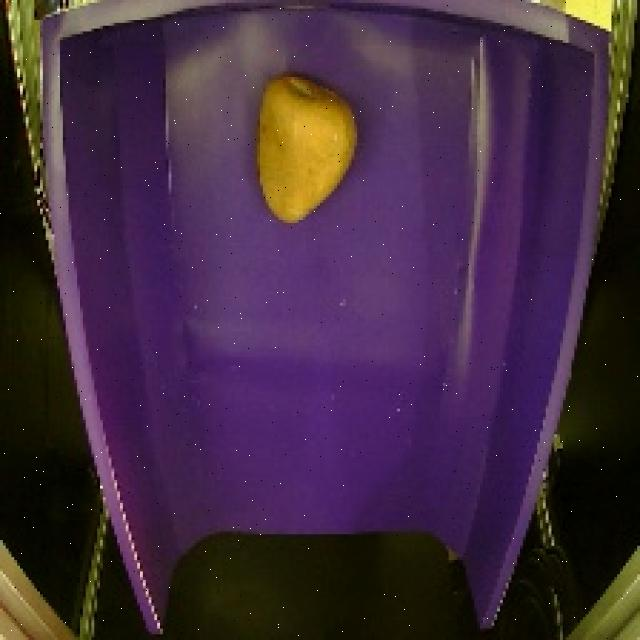cobbles: (246, 66, 366, 235)
